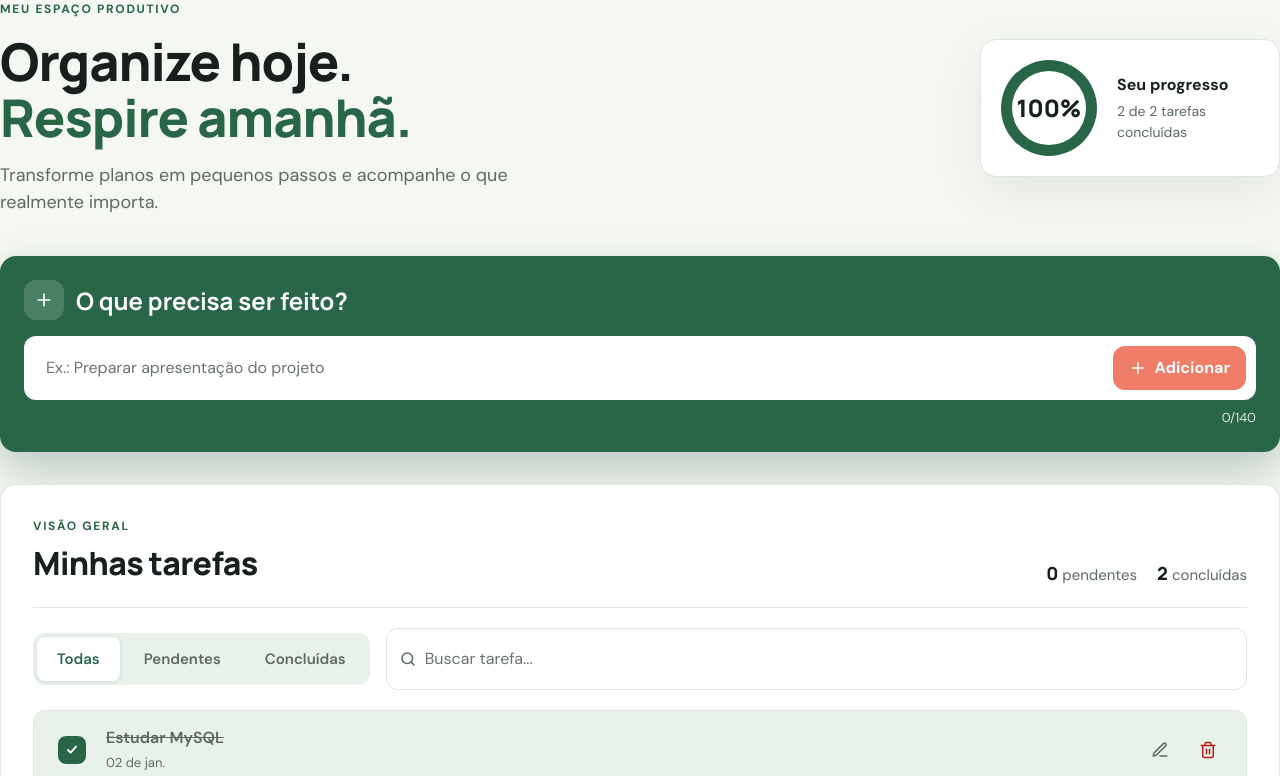
it: TasksPage — filtro sem resultados › exibe o estado de nenhuma pendência ao filtrar pendentes com só concluídas
Click the button "Pendentes" at (182, 659), box [124,637,241,681]
(page scrolled)
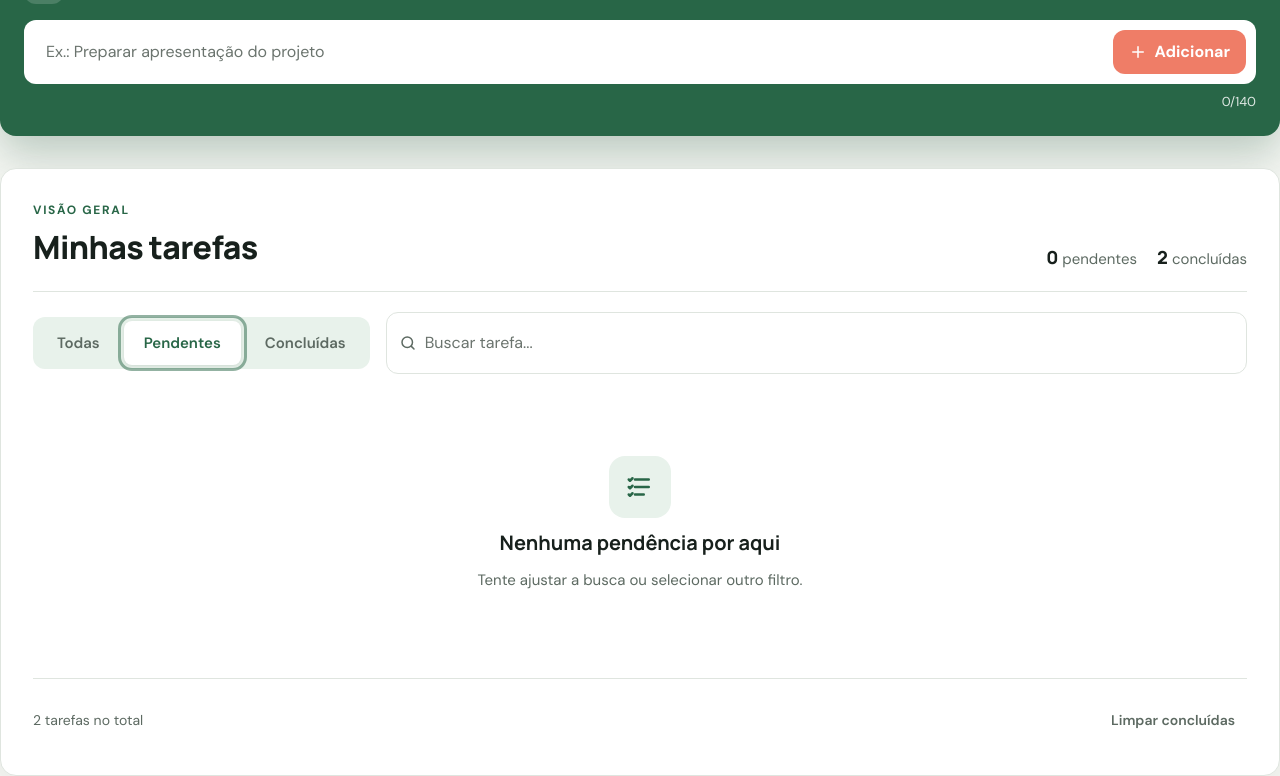
Result: the heading "Nenhuma pendência por aqui" is shown at [500,530,780,556]
Result: the text "Estudar MySQL" is gone
